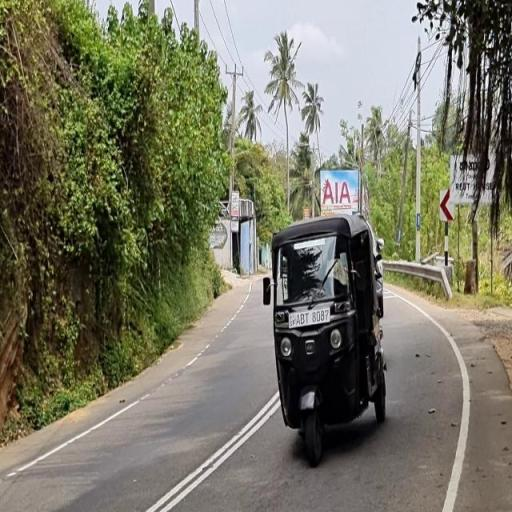double_white_line: (144, 390, 278, 512)
